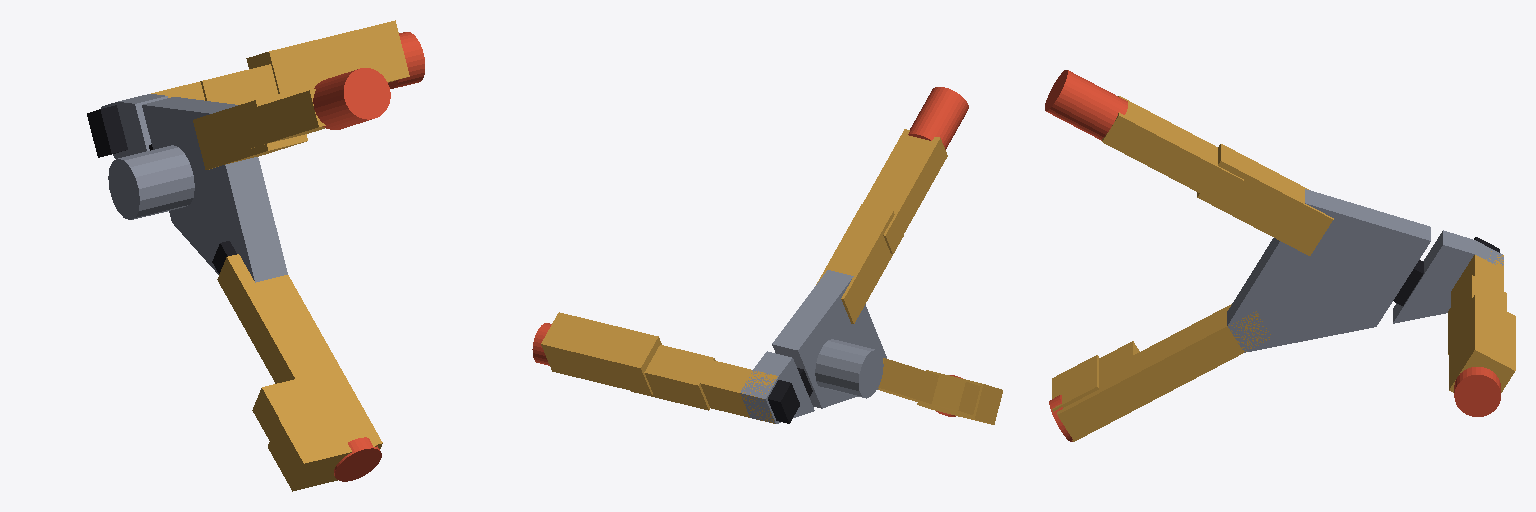
The robot description file, URDF, robot "coarse_s0_037":
<robot name="coarse_s0_037">
  <link name="palm">
    <visual name="palm_palm1">
      <origin xyz="0 0 0" rpy="0 0 0" />
      <geometry>
        <mesh filename="palm_palm1.obj" />
      </geometry>
      <material name="palm_palm1_mat">
        <color rgba="0.55 0.57 0.62 1" />
      </material>
    </visual>
    <collision>
      <origin xyz="0 0 0" rpy="0 0 0" />
      <geometry>
        <mesh filename="palm_palm1.obj" />
      </geometry>
    </collision>
    <visual name="palm_mount2">
      <origin xyz="0 0 0" rpy="0 0 0" />
      <geometry>
        <mesh filename="palm_mount2.obj" />
      </geometry>
      <material name="palm_mount2_mat">
        <color rgba="0.55 0.57 0.62 1" />
      </material>
    </visual>
    <collision>
      <origin xyz="0 0 0" rpy="0 0 0" />
      <geometry>
        <mesh filename="palm_mount2.obj" />
      </geometry>
    </collision>
    <visual name="palm_hinge3">
      <origin xyz="0 0.0244855716 -0.00258974596" rpy="1.57079633 1.04719755 -1.57079633" />
      <geometry>
        <box size="0.029 0.034 0.02" />
      </geometry>
      <material name="palm_hinge3_mat">
        <color rgba="0.15 0.15 0.17 1" />
      </material>
    </visual>
    <collision>
      <origin xyz="0 0.0244855716 -0.00258974596" rpy="1.57079633 1.04719755 -1.57079633" />
      <geometry>
        <box size="0.029 0.034 0.02" />
      </geometry>
    </collision>
    <visual name="palm_motor4">
      <origin xyz="-0.0045 -0.0735048095 -0.03625" rpy="0.523598776 -5.30287619e-17 -3.061617e-17" />
      <geometry>
        <box size="0.029 0.034 0.02" />
      </geometry>
      <material name="palm_motor4_mat">
        <color rgba="0.15 0.15 0.17 1" />
      </material>
    </visual>
    <collision>
      <origin xyz="-0.0045 -0.0735048095 -0.03625" rpy="0.523598776 -5.30287619e-17 -3.061617e-17" />
      <geometry>
        <box size="0.029 0.034 0.02" />
      </geometry>
    </collision>
    <visual name="palm_motor5">
      <origin xyz="0 -0.0335048095 0.03625" rpy="-1.57079633 -1.04719755 1.57079633" />
      <geometry>
        <box size="0.029 0.034 0.02" />
      </geometry>
      <material name="palm_motor5_mat">
        <color rgba="0.15 0.15 0.17 1" />
      </material>
    </visual>
    <collision>
      <origin xyz="0 -0.0335048095 0.03625" rpy="-1.57079633 -1.04719755 1.57079633" />
      <geometry>
        <box size="0.029 0.034 0.02" />
      </geometry>
    </collision>
    <inertial>
      <origin xyz="-3.04903811e-19 -0.0270796391 -0.000107868757" rpy="-1.57079633 0.59245756 -1.57079633" />
      <mass value="0.405129859" />
      <inertia ixx="0.000228735768" ixy="0" ixz="0" iyy="0.000529260656" iyz="0" izz="0.000719103957" />
    </inertial>
  </link>
  <link name="palm0">
    <visual name="palm0_palm1">
      <origin xyz="0 0 0" rpy="0 0 0" />
      <geometry>
        <mesh filename="palm0_palm1.obj" />
      </geometry>
      <material name="palm0_palm1_mat">
        <color rgba="0.55 0.57 0.62 1" />
      </material>
    </visual>
    <collision>
      <origin xyz="0 0 0" rpy="0 0 0" />
      <geometry>
        <mesh filename="palm0_palm1.obj" />
      </geometry>
    </collision>
    <visual name="palm0_motor2">
      <origin xyz="-0.007 0.0490192379 0.00633974596" rpy="-3.14159265 1.04719755 -1.57079633" />
      <geometry>
        <box size="0.029 0.034 0.02" />
      </geometry>
      <material name="palm0_motor2_mat">
        <color rgba="0.15 0.15 0.17 1" />
      </material>
    </visual>
    <collision>
      <origin xyz="-0.007 0.0490192379 0.00633974596" rpy="-3.14159265 1.04719755 -1.57079633" />
      <geometry>
        <box size="0.029 0.034 0.02" />
      </geometry>
    </collision>
    <inertial>
      <origin xyz="1.47225124e-19 0.0303304788 0.0025528478" rpy="1.57079633 -0.589369872 1.57079633" />
      <mass value="0.104878191" />
      <inertia ixx="1.87295498e-05" ixy="0" ixz="0" iyy="4.211614e-05" iyz="0" izz="5.07773834e-05" />
    </inertial>
  </link>
  <link name="f0_link0">
    <visual name="f0_link0_link1">
      <origin xyz="0.01875 0 -9.54097912e-18" rpy="0 -3.98552134e-18 0" />
      <geometry>
        <box size="0.0615 0.033 0.024" />
      </geometry>
      <material name="f0_link0_link1_mat">
        <color rgba="0.80 0.62 0.30 1" />
      </material>
    </visual>
    <collision>
      <origin xyz="0.01875 0 -9.54097912e-18" rpy="0 -3.98552134e-18 0" />
      <geometry>
        <box size="0.0615 0.033 0.024" />
      </geometry>
    </collision>
    <inertial>
      <origin xyz="0.01875 0 0" rpy="0 0 0" />
      <mass value="0.085239" />
      <inertia ixx="1.18269113e-05" ixy="0" ixz="0" iyy="3.09577393e-05" iyz="0" izz="3.46017066e-05" />
    </inertial>
  </link>
  <link name="f0_link1">
    <visual name="f0_link1_link1">
      <origin xyz="0.02875 0 -1.47451495e-17" rpy="0 -3.98552134e-18 0" />
      <geometry>
        <box size="0.0815 0.033 0.024" />
      </geometry>
      <material name="f0_link1_link1_mat">
        <color rgba="0.80 0.62 0.30 1" />
      </material>
    </visual>
    <collision>
      <origin xyz="0.02875 0 -1.47451495e-17" rpy="0 -3.98552134e-18 0" />
      <geometry>
        <box size="0.0815 0.033 0.024" />
      </geometry>
    </collision>
    <inertial>
      <origin xyz="0.02875 0 0" rpy="0 0 0" />
      <mass value="0.112959" />
      <inertia ixx="1.56730613e-05" ixy="0" ixz="0" iyy="6.79471918e-05" iyz="0" izz="7.27761891e-05" />
    </inertial>
  </link>
  <link name="f0_link2">
    <visual name="f0_link2_link1">
      <origin xyz="0.01875 -0.01225 -1.21430643e-17" rpy="0 -3.98552134e-18 0" />
      <geometry>
        <box size="0.0615 0.0575 0.024" />
      </geometry>
      <material name="f0_link2_link1_mat">
        <color rgba="0.80 0.62 0.30 1" />
      </material>
    </visual>
    <collision>
      <origin xyz="0.01875 -0.01225 -1.21430643e-17" rpy="0 -3.98552134e-18 0" />
      <geometry>
        <box size="0.0615 0.0575 0.024" />
      </geometry>
    </collision>
    <inertial>
      <origin xyz="0.01875 -0.01225 0" rpy="0 0 0" />
      <mass value="0.1485225" />
      <inertia ixx="4.8050123e-05" ixy="0" ixz="0" iyy="5.39415155e-05" iyz="0" izz="8.77334784e-05" />
    </inertial>
  </link>
  <link name="f0_link3">
    <visual name="f0_link3_link1">
      <origin xyz="-0.00625 -0.0165 -1.30104261e-17" rpy="0 -3.98552134e-18 0" />
      <geometry>
        <box size="0.0365 0.053 0.029" />
      </geometry>
      <material name="f0_link3_link1_mat">
        <color rgba="0.80 0.62 0.30 1" />
      </material>
    </visual>
    <collision>
      <origin xyz="-0.00625 -0.0165 -1.30104261e-17" rpy="0 -3.98552134e-18 0" />
      <geometry>
        <box size="0.0365 0.053 0.029" />
      </geometry>
    </collision>
    <inertial>
      <origin xyz="-0.00625 -0.0165 0" rpy="0 0 0" />
      <mass value="0.098175875" />
      <inertia ixx="2.98618286e-05" ixy="0" ixz="0" iyy="1.778006e-05" iyz="0" izz="3.38809035e-05" />
    </inertial>
  </link>
  <link name="f0_link4">
    <visual name="f0_link4_link1">
      <origin xyz="0.009 0 1.30104261e-18" rpy="-1.57079633 -0 -1.57079633" />
      <geometry>
        <cylinder radius="0.0165" length="0.009" />
      </geometry>
      <material name="f0_link4_link1_mat">
        <color rgba="0.85 0.35 0.25 1" />
      </material>
    </visual>
    <collision>
      <origin xyz="0.009 0 1.30104261e-18" rpy="-1.57079633 -0 -1.57079633" />
      <geometry>
        <cylinder radius="0.0165" length="0.009" />
      </geometry>
    </collision>
    <inertial>
      <origin xyz="0.009 0 0" rpy="0 0 0" />
      <mass value="0.046399949" />
      <inertia ixx="5.41970115e-06" ixy="0" ixz="0" iyy="7.09430898e-06" iyz="0" izz="7.09430898e-06" />
    </inertial>
  </link>
  <link name="f1_link0">
    <visual name="f1_link0_link1">
      <origin xyz="0.03375 0 -3.46944695e-18" rpy="0 7.03853194e-17 0" />
      <geometry>
        <box size="0.0915 0.029 0.033" />
      </geometry>
      <material name="f1_link0_link1_mat">
        <color rgba="0.80 0.62 0.30 1" />
      </material>
    </visual>
    <collision>
      <origin xyz="0.03375 0 -3.46944695e-18" rpy="0 7.03853194e-17 0" />
      <geometry>
        <box size="0.0915 0.029 0.033" />
      </geometry>
    </collision>
    <inertial>
      <origin xyz="0.03375 0 0" rpy="0 0 0" />
      <mass value="0.153239625" />
      <inertia ixx="2.46460397e-05" ixy="0" ixz="0" iyy="0.000120819867" iyz="0" izz="0.000117652915" />
    </inertial>
  </link>
  <link name="f1_link1">
    <visual name="f1_link1_link1">
      <origin xyz="0.03875 0 -5.20417043e-18" rpy="0 7.03853194e-17 0" />
      <geometry>
        <box size="0.1015 0.033 0.024" />
      </geometry>
      <material name="f1_link1_link1_mat">
        <color rgba="0.80 0.62 0.30 1" />
      </material>
    </visual>
    <collision>
      <origin xyz="0.03875 0 -5.20417043e-18" rpy="0 7.03853194e-17 0" />
      <geometry>
        <box size="0.1015 0.033 0.024" />
      </geometry>
    </collision>
    <inertial>
      <origin xyz="0.03875 0 0" rpy="0 0 0" />
      <mass value="0.140679" />
      <inertia ixx="1.95192113e-05" ixy="0" ixz="0" iyy="0.000127528444" iyz="0" izz="0.000133542472" />
    </inertial>
  </link>
  <link name="f1_link2">
    <visual name="f1_link2_link1">
      <origin xyz="0.029 0 -1.12757026e-17" rpy="-1.57079633 -0 -1.57079633" />
      <geometry>
        <cylinder radius="0.0165" length="0.049" />
      </geometry>
      <material name="f1_link2_link1_mat">
        <color rgba="0.85 0.35 0.25 1" />
      </material>
    </visual>
    <collision>
      <origin xyz="0.029 0 -1.12757026e-17" rpy="-1.57079633 -0 -1.57079633" />
      <geometry>
        <cylinder radius="0.0165" length="0.049" />
      </geometry>
    </collision>
    <inertial>
      <origin xyz="0.029 0 0" rpy="0 0 0" />
      <mass value="0.106270851" />
      <inertia ixx="1.35696277e-05" ixy="0" ixz="0" iyy="5.30015704e-05" iyz="0" izz="5.30015704e-05" />
    </inertial>
  </link>
  <link name="f2_link0">
    <visual name="f2_link0_link1">
      <origin xyz="0.02875 -6.9388939e-18 0" rpy="-4.06369831e-17 2.75600575e-34 -9.81447325e-34" />
      <geometry>
        <box size="0.0815 0.033 0.024" />
      </geometry>
      <material name="f2_link0_link1_mat">
        <color rgba="0.80 0.62 0.30 1" />
      </material>
    </visual>
    <collision>
      <origin xyz="0.02875 -6.9388939e-18 0" rpy="-4.06369831e-17 2.75600575e-34 -9.81447325e-34" />
      <geometry>
        <box size="0.0815 0.033 0.024" />
      </geometry>
    </collision>
    <inertial>
      <origin xyz="0.02875 0 0" rpy="0 0 0" />
      <mass value="0.112959" />
      <inertia ixx="1.56730613e-05" ixy="0" ixz="0" iyy="6.79471918e-05" iyz="0" izz="7.27761891e-05" />
    </inertial>
  </link>
  <link name="f2_link1">
    <visual name="f2_link1_link1">
      <origin xyz="0.02375 -6.9388939e-18 0" rpy="-4.06369831e-17 2.75600575e-34 -9.81447325e-34" />
      <geometry>
        <box size="0.0715 0.033 0.029" />
      </geometry>
      <material name="f2_link1_link1_mat">
        <color rgba="0.80 0.62 0.30 1" />
      </material>
    </visual>
    <collision>
      <origin xyz="0.02375 -6.9388939e-18 0" rpy="-4.06369831e-17 2.75600575e-34 -9.81447325e-34" />
      <geometry>
        <box size="0.0715 0.033 0.029" />
      </geometry>
    </collision>
    <inertial>
      <origin xyz="0.02375 0 0" rpy="0 0 0" />
      <mass value="0.119744625" />
      <inertia ixx="1.92589272e-05" ixy="0" ixz="0" iyy="5.94058074e-05" iyz="0" izz="6.18805296e-05" />
    </inertial>
  </link>
  <link name="f2_link2">
    <visual name="f2_link2_link1">
      <origin xyz="0.014 -0.00625 1.38777878e-17" rpy="-4.06369831e-17 2.75600575e-34 -9.81447325e-34" />
      <geometry>
        <box size="0.052 0.0365 0.033" />
      </geometry>
      <material name="f2_link2_link1_mat">
        <color rgba="0.80 0.62 0.30 1" />
      </material>
    </visual>
    <collision>
      <origin xyz="0.014 -0.00625 1.38777878e-17" rpy="-4.06369831e-17 2.75600575e-34 -9.81447325e-34" />
      <geometry>
        <box size="0.052 0.0365 0.033" />
      </geometry>
    </collision>
    <inertial>
      <origin xyz="0.014 -0.00625 0" rpy="0 0 0" />
      <mass value="0.1096095" />
      <inertia ixx="2.21160002e-05" ixy="0" ixz="0" iyy="3.46457361e-05" iyz="0" izz="3.6867612e-05" />
    </inertial>
  </link>
  <link name="f2_link3">
    <visual name="f2_link3_link1">
      <origin xyz="0.019 -0.00625 1.38777878e-17" rpy="-4.06369831e-17 2.75600575e-34 -9.81447325e-34" />
      <geometry>
        <box size="0.062 0.0365 0.033" />
      </geometry>
      <material name="f2_link3_link1_mat">
        <color rgba="0.80 0.62 0.30 1" />
      </material>
    </visual>
    <collision>
      <origin xyz="0.019 -0.00625 1.38777878e-17" rpy="-4.06369831e-17 2.75600575e-34 -9.81447325e-34" />
      <geometry>
        <box size="0.062 0.0365 0.033" />
      </geometry>
    </collision>
    <inertial>
      <origin xyz="0.019 -0.00625 0" rpy="0 0 0" />
      <mass value="0.13068825" />
      <inertia ixx="2.63690771e-05" ixy="0" ixz="0" iyy="5.37237614e-05" iyz="0" izz="5.63729212e-05" />
    </inertial>
  </link>
  <link name="f2_link4">
    <visual name="f2_link4_link1">
      <origin xyz="0.014 0 0" rpy="-1.57079633 -0 -1.57079633" />
      <geometry>
        <cylinder radius="0.0165" length="0.019" />
      </geometry>
      <material name="f2_link4_link1_mat">
        <color rgba="0.85 0.35 0.25 1" />
      </material>
    </visual>
    <collision>
      <origin xyz="0.014 0 0" rpy="-1.57079633 -0 -1.57079633" />
      <geometry>
        <cylinder radius="0.0165" length="0.019" />
      </geometry>
    </collision>
    <inertial>
      <origin xyz="0.014 0 0" rpy="0 0 0" />
      <mass value="0.0613676745" />
      <inertia ixx="7.45718278e-06" ixy="0" ixz="0" iyy="1.32201625e-05" iyz="0" izz="1.32201625e-05" />
    </inertial>
  </link>
  <joint name="palm0_joint" type="revolute">
    <parent link="palm" />
    <child link="palm0" />
    <origin xyz="0 0.0309807621 -0.00633974596" rpy="0 0 0" />
    <axis xyz="0 -0.5 -0.866025404" />
    <limit effort="0.5" lower="-0.523598776" upper="0.523598776" velocity="5" />
    <dynamics damping="0.0775033" friction="0" />
  </joint>
  <joint name="f0_j0" type="revolute">
    <parent link="palm" />
    <child link="f0_link0" />
    <origin xyz="-0.0045 -0.08 -0.04" rpy="0 0.523598776 -1.57079633" />
    <axis xyz="0 1 6.123234e-17" />
    <limit effort="0.5" lower="-0.523598776" upper="0.523598776" velocity="5" />
    <dynamics damping="0.0775033" friction="0" />
  </joint>
  <joint name="f0_j1" type="revolute">
    <parent link="f0_link0" />
    <child link="f0_link1" />
    <origin xyz="0.04 0 0" rpy="0 0 0" />
    <axis xyz="0 1 6.123234e-17" />
    <limit effort="0.5" lower="-0.523598776" upper="0.523598776" velocity="5" />
    <dynamics damping="0.0775033" friction="0" />
  </joint>
  <joint name="f0_j2" type="revolute">
    <parent link="f0_link1" />
    <child link="f0_link2" />
    <origin xyz="0.06 0 0" rpy="0 0 0" />
    <axis xyz="0 1 6.123234e-17" />
    <limit effort="0.5" lower="-0.523598776" upper="0.523598776" velocity="5" />
    <dynamics damping="0.0775033" friction="0" />
  </joint>
  <joint name="f0_j3" type="revolute">
    <parent link="f0_link2" />
    <child link="f0_link3" />
    <origin xyz="0.04 0 0" rpy="0 0 0" />
    <axis xyz="0 1 6.123234e-17" />
    <limit effort="0.5" lower="-0.523598776" upper="0.523598776" velocity="5" />
    <dynamics damping="0.0775033" friction="0" />
  </joint>
  <joint name="f0_j4" type="revolute">
    <parent link="f0_link3" />
    <child link="f0_link4" />
    <origin xyz="0 0 0" rpy="0 0 0" />
    <axis xyz="0 0 1" />
    <limit effort="0.5" lower="-0.523598776" upper="1.57079633" velocity="5" />
    <dynamics damping="0.0775033" friction="0" />
  </joint>
  <joint name="f1_j0" type="revolute">
    <parent link="palm" />
    <child link="f1_link0" />
    <origin xyz="0 -0.04 0.04" rpy="-0 -0.523598776 -1.57079633" />
    <axis xyz="0 0 1" />
    <limit effort="0.5" lower="-0.523598776" upper="1.57079633" velocity="5" />
    <dynamics damping="0.0775033" friction="0" />
  </joint>
  <joint name="f1_j1" type="revolute">
    <parent link="f1_link0" />
    <child link="f1_link1" />
    <origin xyz="0.07 0 0" rpy="0 0 0" />
    <axis xyz="-0 -1 -6.123234e-17" />
    <limit effort="0.5" lower="-0.523598776" upper="0.523598776" velocity="5" />
    <dynamics damping="0.0775033" friction="0" />
  </joint>
  <joint name="f1_j2" type="revolute">
    <parent link="f1_link1" />
    <child link="f1_link2" />
    <origin xyz="0.08 0 0" rpy="0 0 0" />
    <axis xyz="-0 -1 -6.123234e-17" />
    <limit effort="0.5" lower="-0.523598776" upper="0.523598776" velocity="5" />
    <dynamics damping="0.0775033" friction="0" />
  </joint>
  <joint name="f2_j0" type="revolute">
    <parent link="palm0" />
    <child link="f2_link0" />
    <origin xyz="0.0005 0.0490192379 0.00633974596" rpy="-2.0943951 -5.30287619e-17 3.061617e-17" />
    <axis xyz="-0 -1 -6.123234e-17" />
    <limit effort="0.5" lower="-0.523598776" upper="0.523598776" velocity="5" />
    <dynamics damping="0.0775033" friction="0" />
  </joint>
  <joint name="f2_j1" type="revolute">
    <parent link="f2_link0" />
    <child link="f2_link1" />
    <origin xyz="0.06 0 0" rpy="0 0 0" />
    <axis xyz="-0 -1 -6.123234e-17" />
    <limit effort="0.5" lower="-0.523598776" upper="0.523598776" velocity="5" />
    <dynamics damping="0.0775033" friction="0" />
  </joint>
  <joint name="f2_j2" type="revolute">
    <parent link="f2_link1" />
    <child link="f2_link2" />
    <origin xyz="0.05 0 0" rpy="0 0 0" />
    <axis xyz="0 0 1" />
    <limit effort="0.5" lower="-0.523598776" upper="1.57079633" velocity="5" />
    <dynamics damping="0.0775033" friction="0" />
  </joint>
  <joint name="f2_j3" type="revolute">
    <parent link="f2_link2" />
    <child link="f2_link3" />
    <origin xyz="0.03 0 0" rpy="0 0 0" />
    <axis xyz="0 0 1" />
    <limit effort="0.5" lower="-0.523598776" upper="1.57079633" velocity="5" />
    <dynamics damping="0.0775033" friction="0" />
  </joint>
  <joint name="f2_j4" type="revolute">
    <parent link="f2_link3" />
    <child link="f2_link4" />
    <origin xyz="0.04 0 0" rpy="0 0 0" />
    <axis xyz="0 0 1" />
    <limit effort="0.5" lower="-0.523598776" upper="1.57079633" velocity="5" />
    <dynamics damping="0.0775033" friction="0" />
  </joint>
</robot>

--- Render facts (derived) ---
3 views of the same robot in one strip: view 1: azimuth 30°, elevation 25°; view 2: azimuth 150°, elevation 25°; view 3: azimuth 270°, elevation 25° (orthographic).
Model coarse_s0_037 with 15 links and 14 joints (14 revolute), rooted at palm, posed all joints at 0.
Visible links, largest first — view 1: palm, f0_link3, f0_link1, f1_link2, f0_link2, f1_link0, f2_link3, f0_link0, palm0, f2_link2, f1_link1, f2_link1 (+2 smaller); view 2: palm, f1_link1, f1_link0, f2_link2, palm0, f2_link3, f2_link0, f2_link1, f1_link2, f0_link2, f0_link3, f0_link1 (+1 smaller); view 3: palm, f1_link1, f1_link0, f0_link1, palm0, f1_link2, f0_link2, f2_link3, f0_link0, f2_link4, f0_link3, f2_link2 (+2 smaller).
Boxes of the visible links, left/top/right/bottom form: palm: left=108, top=97, right=287, bottom=282; f0_link3: left=268, top=402, right=376, bottom=491; f0_link1: left=245, top=295, right=352, bottom=403; f1_link2: left=313, top=68, right=390, bottom=129; f0_link2: left=252, top=369, right=382, bottom=448; f1_link0: left=193, top=91, right=307, bottom=169; f2_link3: left=311, top=20, right=409, bottom=82; f0_link0: left=217, top=254, right=302, bottom=341; palm0: left=87, top=94, right=167, bottom=212; f2_link2: left=246, top=34, right=349, bottom=93; f1_link1: left=240, top=89, right=325, bottom=148; f2_link1: left=200, top=64, right=277, bottom=104; palm: left=772, top=270, right=886, bottom=408; f1_link1: left=863, top=129, right=947, bottom=253; f1_link0: left=816, top=204, right=903, bottom=323; f2_link2: left=584, top=323, right=661, bottom=395; palm0: left=740, top=351, right=814, bottom=423; f2_link3: left=541, top=312, right=618, bottom=387; f2_link0: left=677, top=357, right=777, bottom=423; f2_link1: left=631, top=345, right=715, bottom=410; f1_link2: left=908, top=87, right=968, bottom=149; f0_link2: left=899, top=375, right=980, bottom=414; f0_link3: left=917, top=370, right=1002, bottom=424; f0_link1: left=878, top=365, right=938, bottom=403; palm: left=1227, top=189, right=1430, bottom=352; f1_link1: left=1102, top=96, right=1243, bottom=206; f1_link0: left=1197, top=144, right=1333, bottom=255; f0_link1: left=1107, top=317, right=1223, bottom=411; palm0: left=1393, top=230, right=1503, bottom=323; f1_link2: left=1045, top=70, right=1127, bottom=140; f0_link2: left=1057, top=341, right=1149, bottom=441; f2_link3: left=1449, top=313, right=1515, bottom=392; f0_link0: left=1181, top=304, right=1270, bottom=376; f2_link4: left=1454, top=367, right=1500, bottom=416; f0_link3: left=1052, top=355, right=1098, bottom=441; f2_link2: left=1449, top=295, right=1515, bottom=365.
Size in the robot's own frame: 0.256 by 0.331 by 0.2871 metres.
3 mesh visuals loaded from 3 distinct referenced files (3 OBJ).
